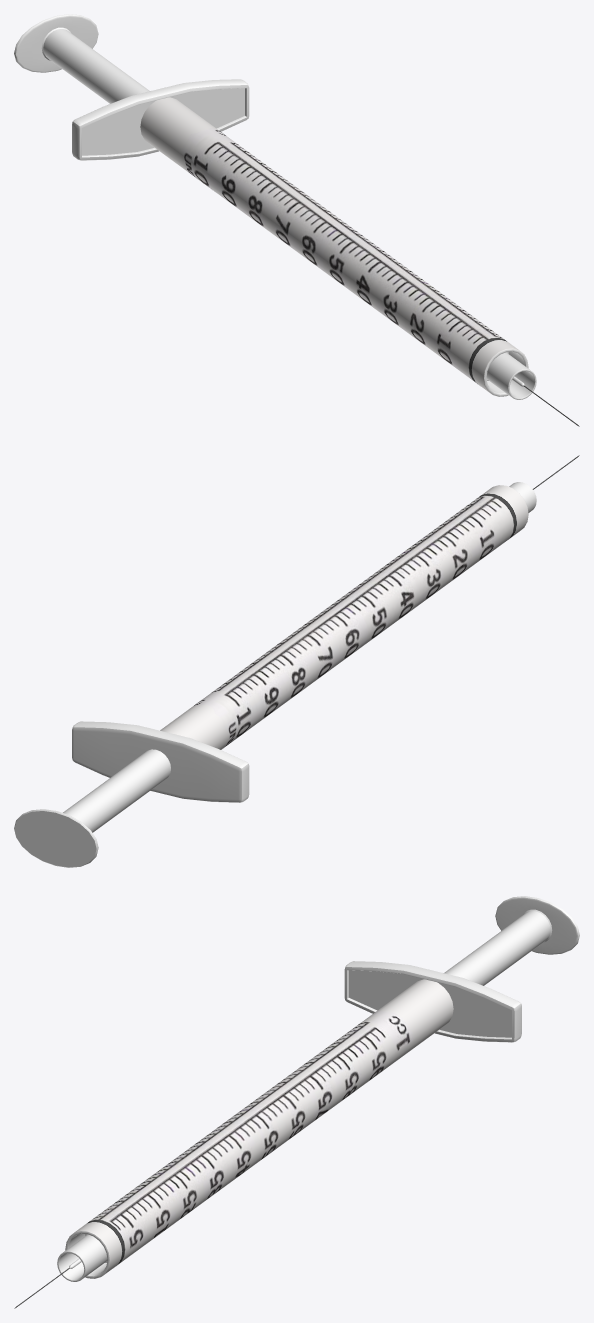
File: Syringe.fbx
The picture shows the model from 3 angles, top to bottom: view 1: azimuth 30°, elevation 25°; view 2: azimuth 150°, elevation 25°; view 3: azimuth 330°, elevation 25°; orthographic projection.
Visible parts, largest first — view 1: syringe; view 2: syringe; view 3: syringe.
Boxes of the visible parts, x1,y1,x2,y2 form: syringe: [14, 14, 579, 426]; syringe: [14, 455, 579, 867]; syringe: [14, 896, 579, 1308].
Bounding box in the file's own units: 4.63 × 1.49 × 24.4.
Materials: 1 (1 with a texture image).
